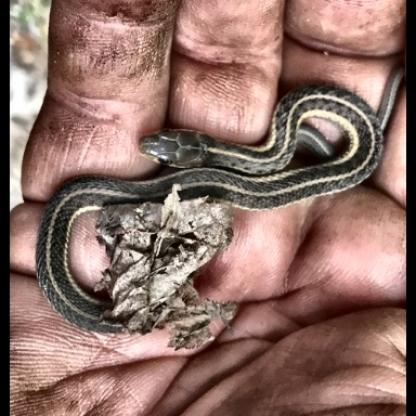Snake: (37, 82, 410, 340)
